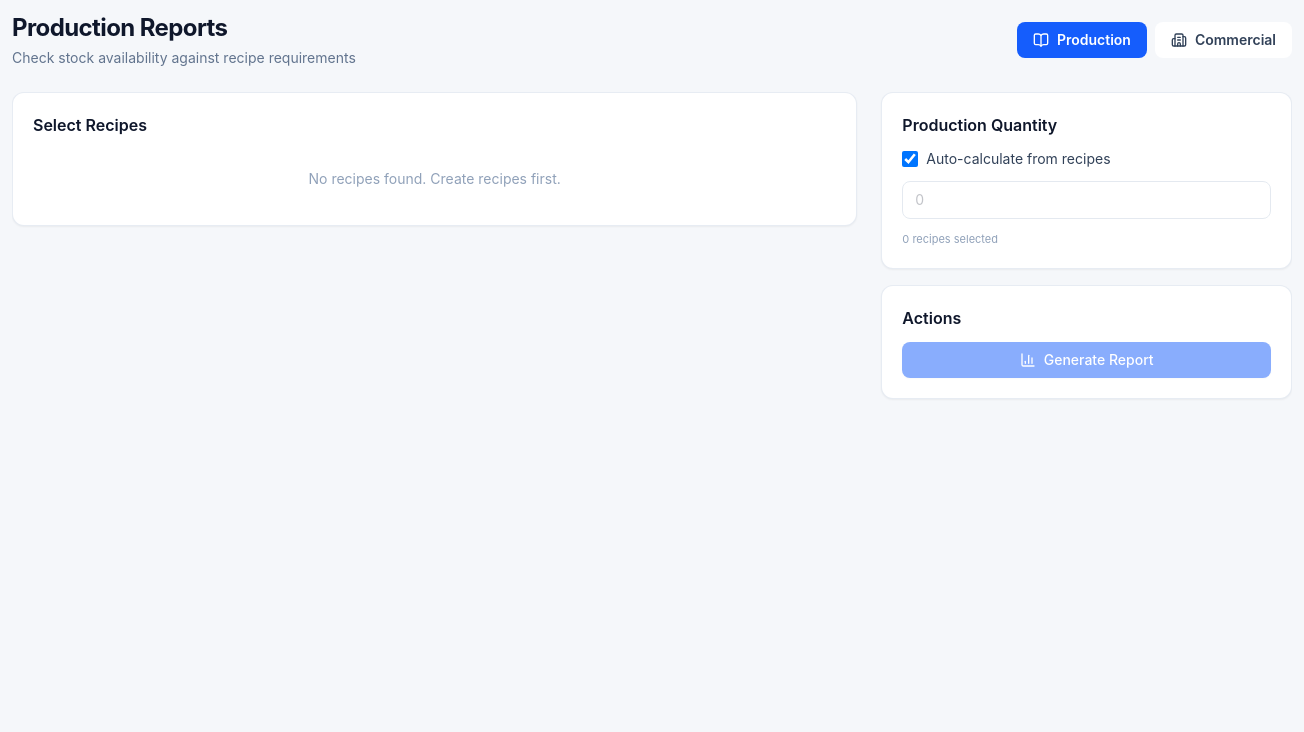
Test case: Commercial grouped report › renders period rows from the {periods} summary contract without a false error
This screenshot has width=1304, height=732.
Click the button "Commercial" at (1223, 40), box [1155,22,1292,58]
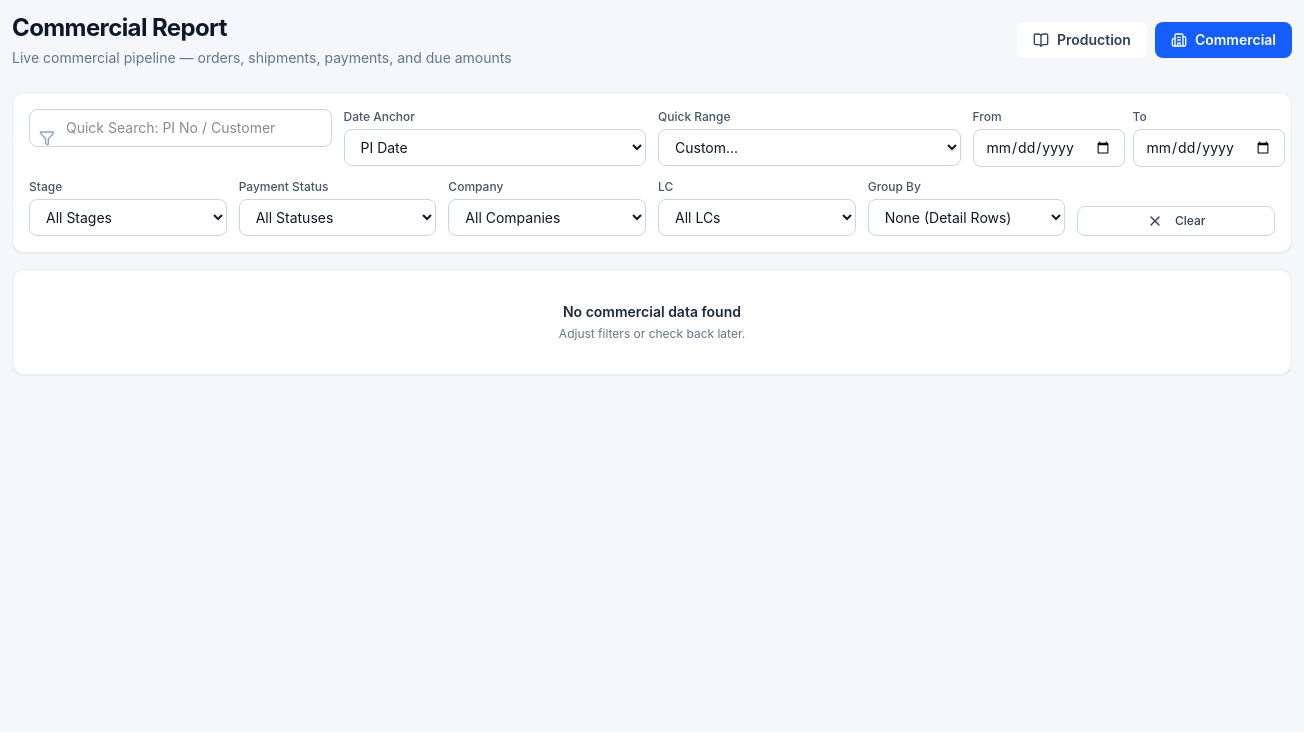
Select "Month" in the dropdown labelled "Group By" at (967, 218), box [868,199,1065,236]
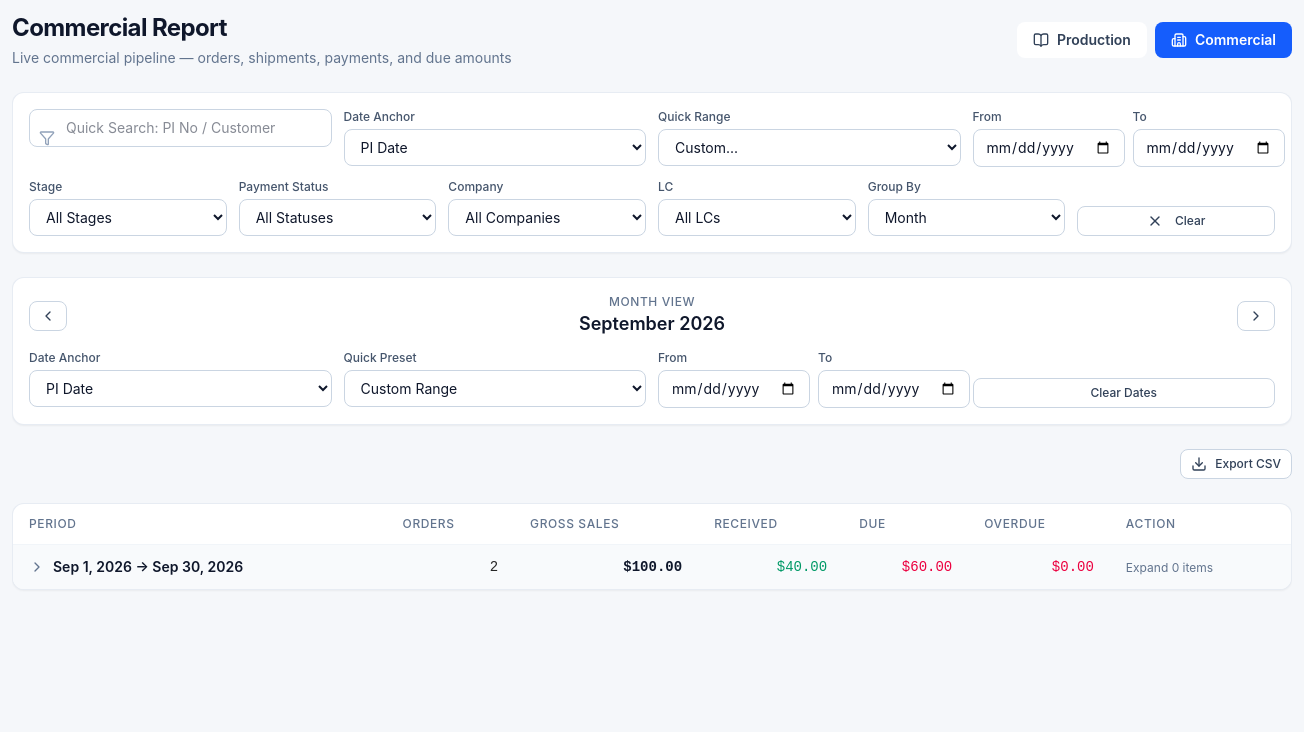
Expected: the text "Expand 0 items" is shown, [1126,560,1213,575]
